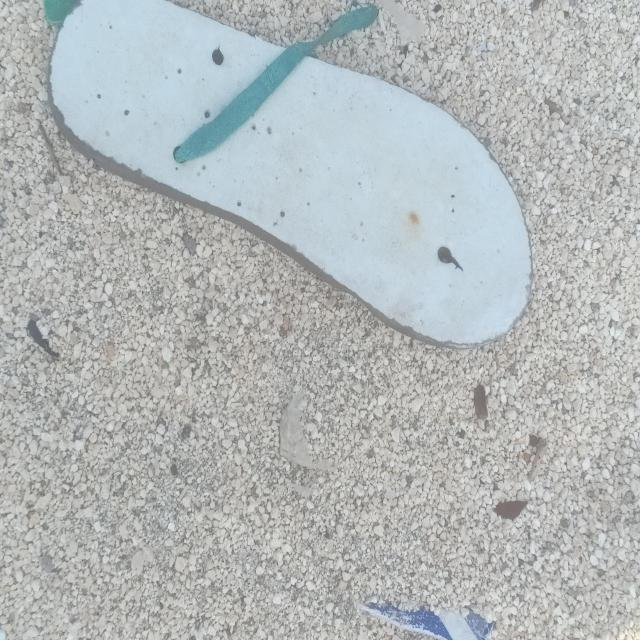litter: (45, 0, 529, 346), (357, 601, 499, 640)
